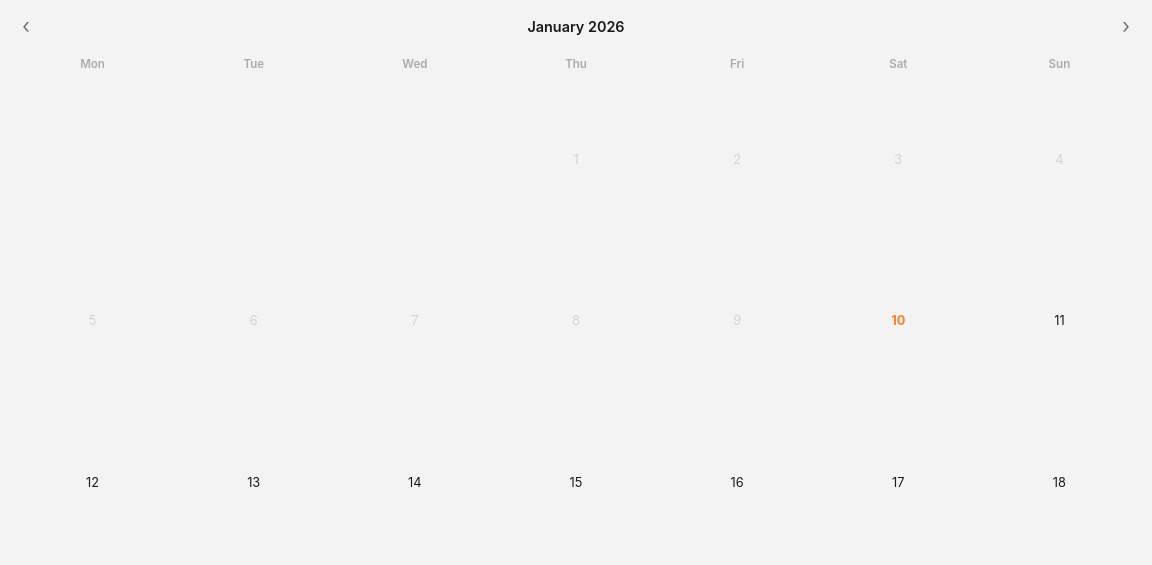
Test: MiniCalendar › wraps from January to December when navigating back
This screenshot has width=1152, height=565.
Click the button named "previous month": [26, 26] box [14,14,38,39]
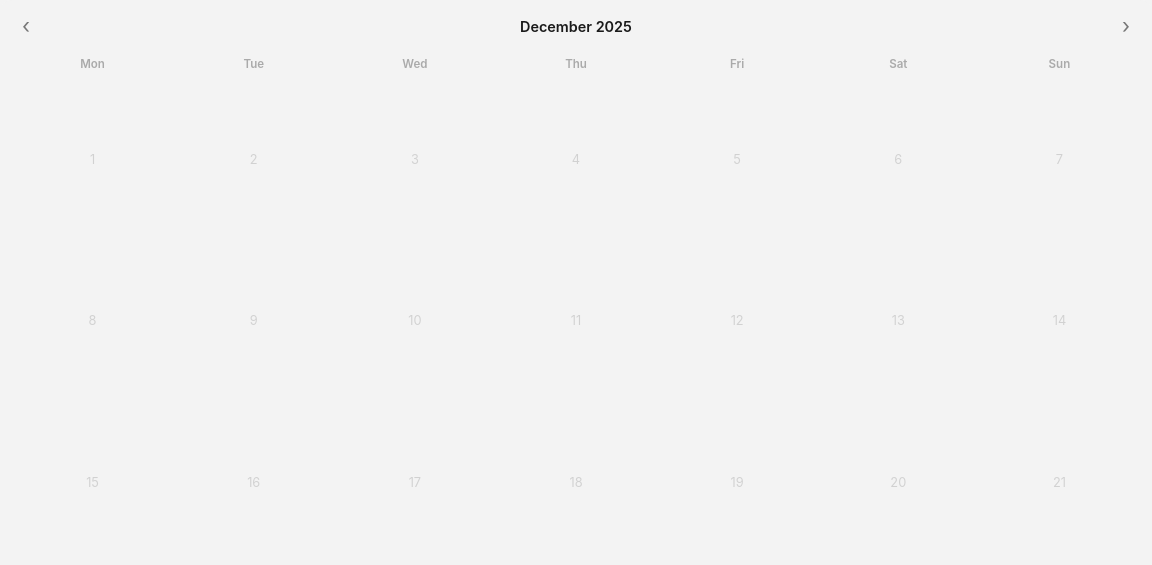
Result: the text "December 2025" is shown at [520,15,632,38]
